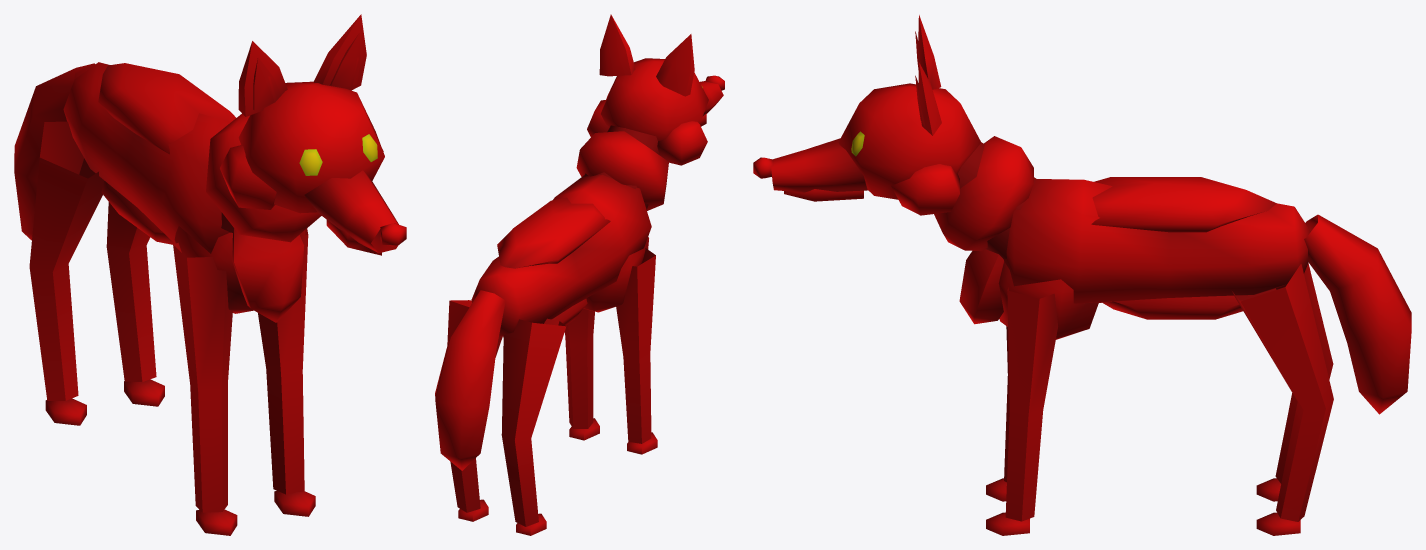
Rendered from WolfAnimal_LOD1.glb.
3 renders of one model, left to right at view 1: azimuth 30°, elevation 25°; view 2: azimuth 150°, elevation 25°; view 3: azimuth 270°, elevation 25°, orthographic. The views are drawn at different scales.
Visible parts, largest first — view 1: WolfAnimal_LOD1; view 2: WolfAnimal_LOD1; view 3: WolfAnimal_LOD1.
Boxes of the visible parts, x1,y1,x2,y2 form: WolfAnimal_LOD1: [14, 14, 406, 535]; WolfAnimal_LOD1: [435, 14, 724, 535]; WolfAnimal_LOD1: [753, 15, 1411, 535].
Size of the model in its own units: 0.2474 by 0.822 by 1.03.
